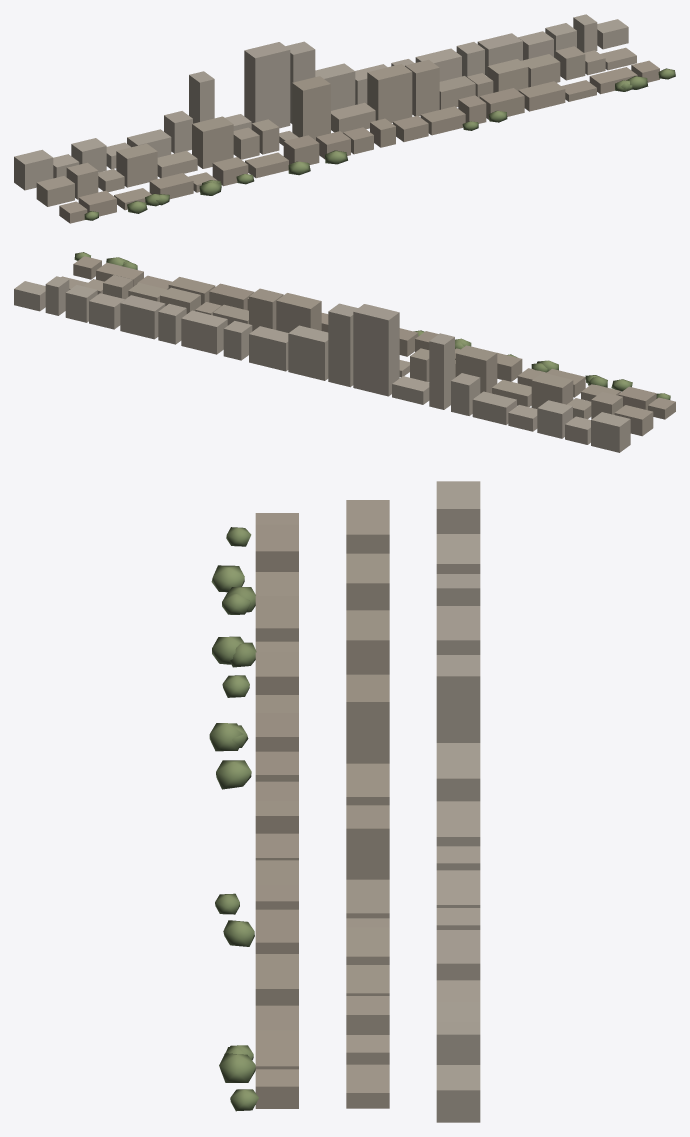
Rendered from city_basin_backdrop.glb.
The picture shows the model from 3 angles, top to bottom: view 1: azimuth 30°, elevation 25°; view 2: azimuth 150°, elevation 25°; view 3: azimuth 270°, elevation 25°; orthographic projection. The views are drawn at different scales.
Visible parts, largest first — view 1: city_basin_backdrop_mesh; view 2: city_basin_backdrop_mesh; view 3: city_basin_backdrop_mesh.
Boxes of the visible parts, bbox=[...] form: city_basin_backdrop_mesh: bbox=[14, 14, 675, 223]; city_basin_backdrop_mesh: bbox=[14, 252, 675, 452]; city_basin_backdrop_mesh: bbox=[209, 481, 480, 1122].
Bounding box in the file's own units: 76.98 × 9.31 × 14.93.
